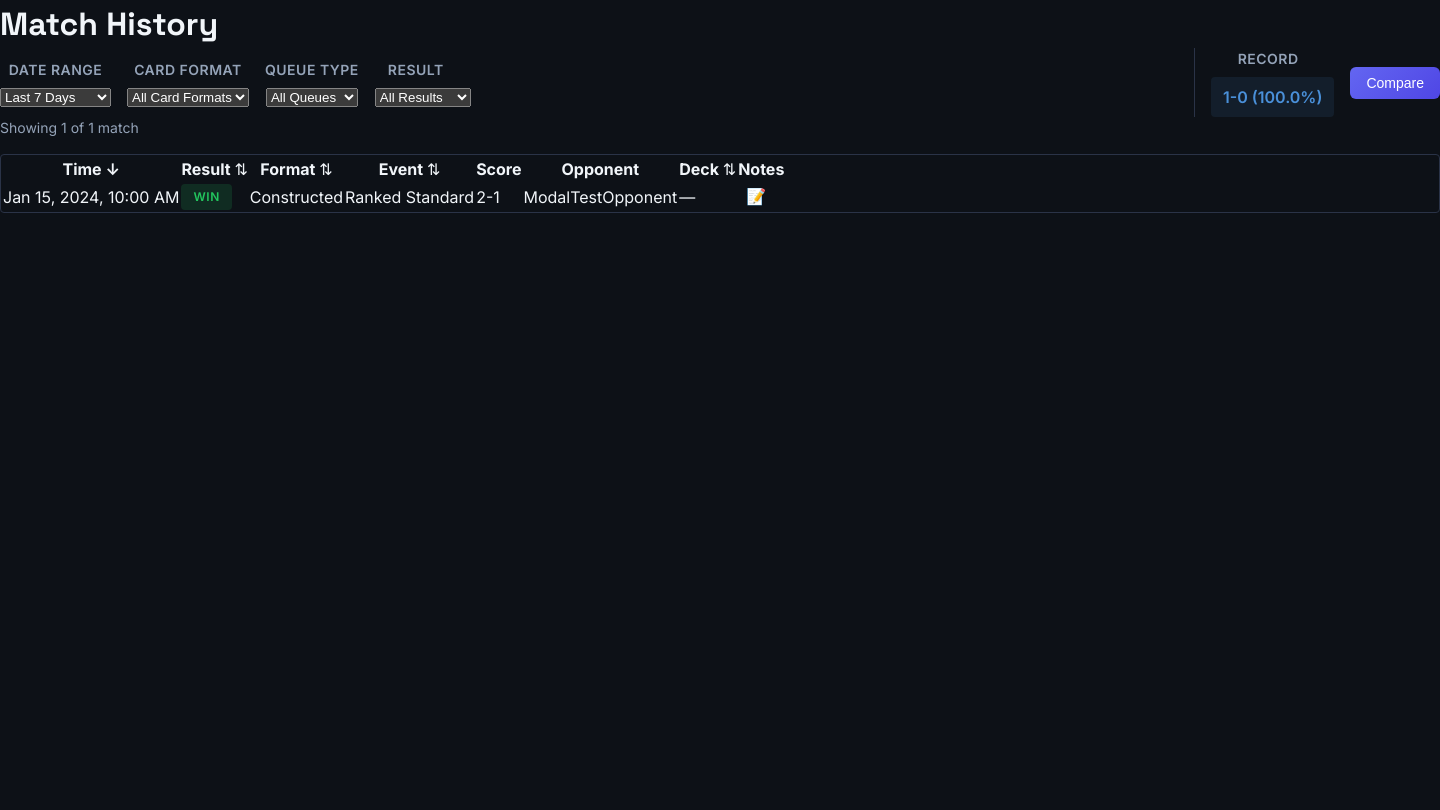
Test: MatchHistory › Match Details Modal › should close modal when clicking close button
The image size is (1440, 810).
Expected: the text "ModalTestOpponent" is shown, left=524, top=183, right=677, bottom=210
Click on the row to open modal
Click the text "ModalTestOpponent" at (394, 196), box left=3, top=183, right=784, bottom=210
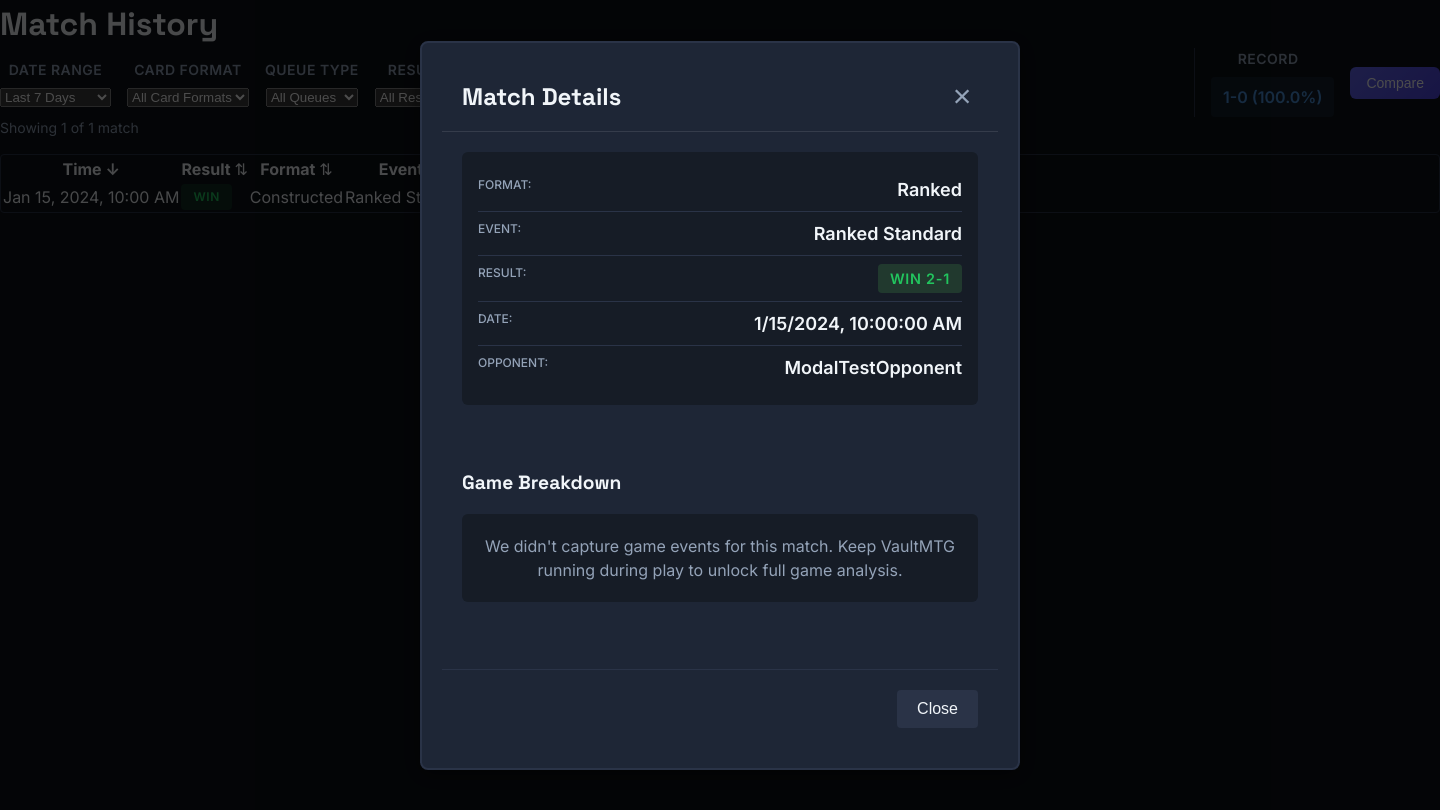
Now the heading "Match Details" is shown, box left=462, top=78, right=621, bottom=114
Click the close button (footer button with text "Close")
Click the button "Close" at (938, 708), box left=897, top=690, right=978, bottom=728
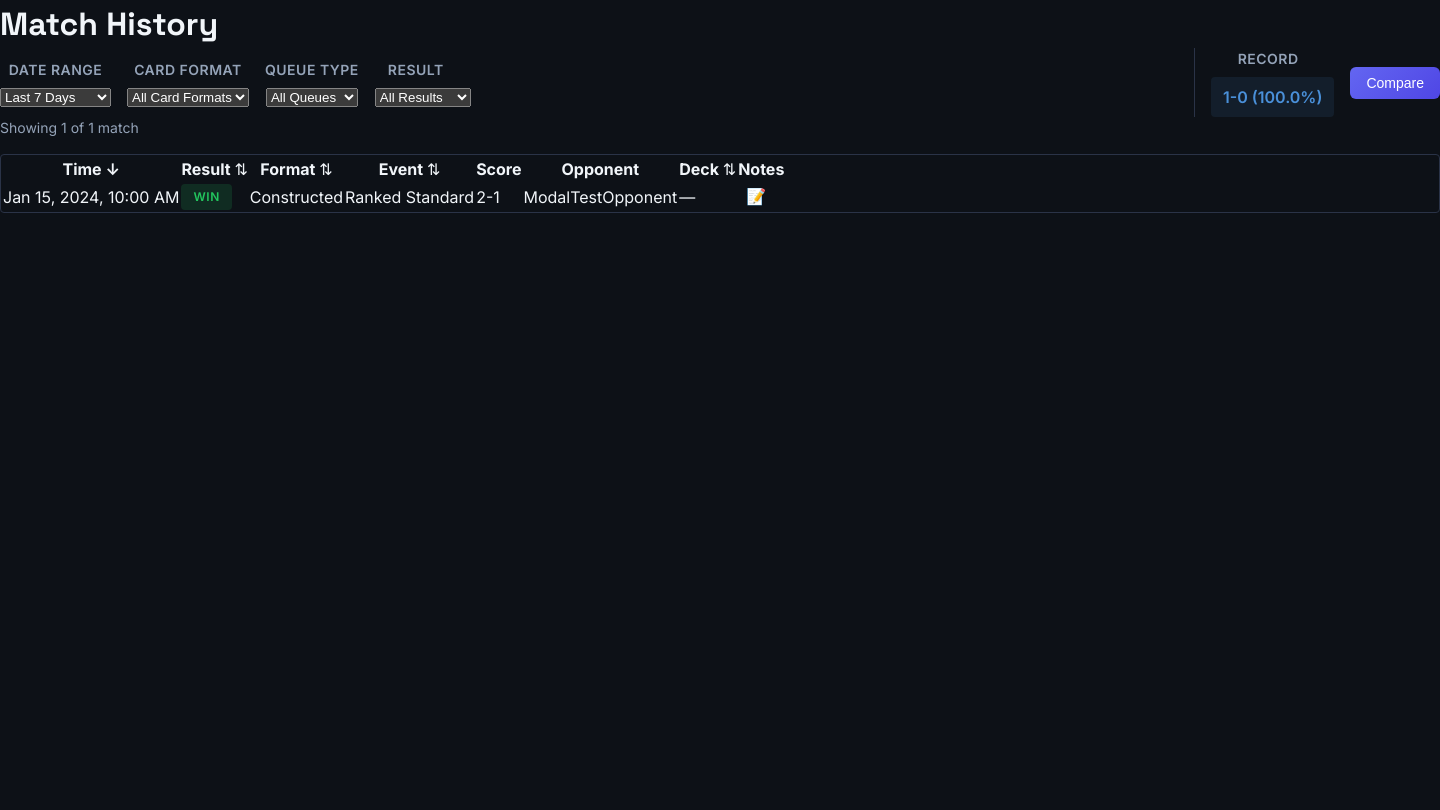
Now the heading "Match Details" is gone
